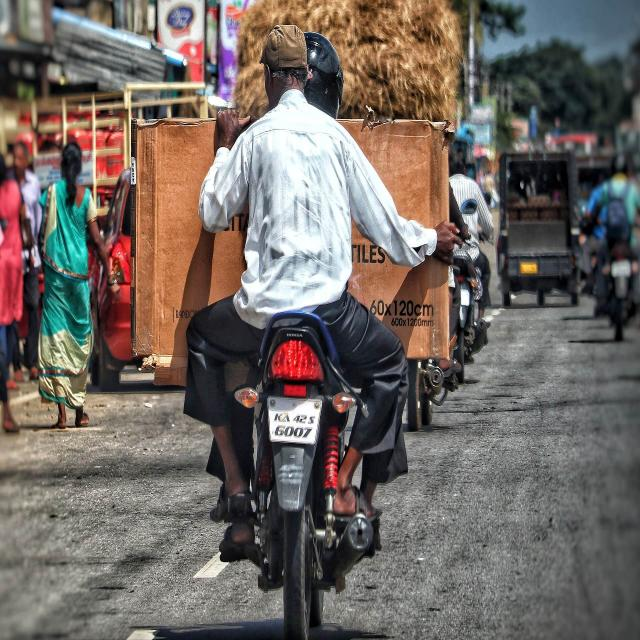plate: (266, 396, 322, 446), (610, 258, 632, 280)
